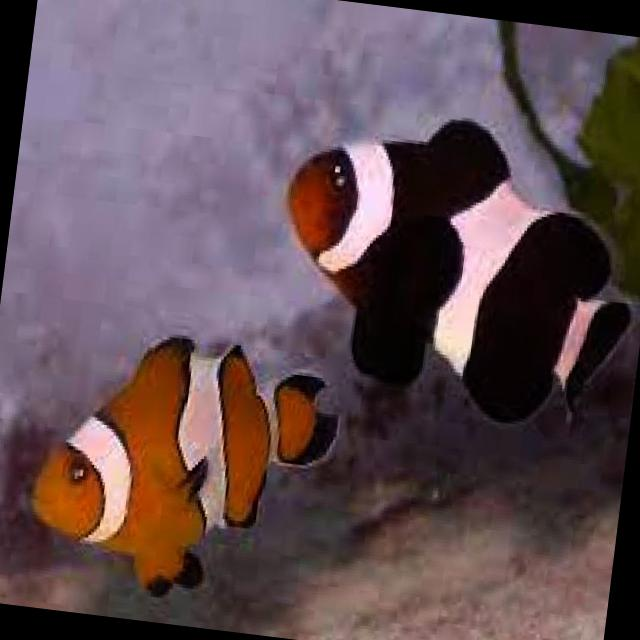ClownFish: (263, 98, 640, 424), (24, 316, 345, 613)
